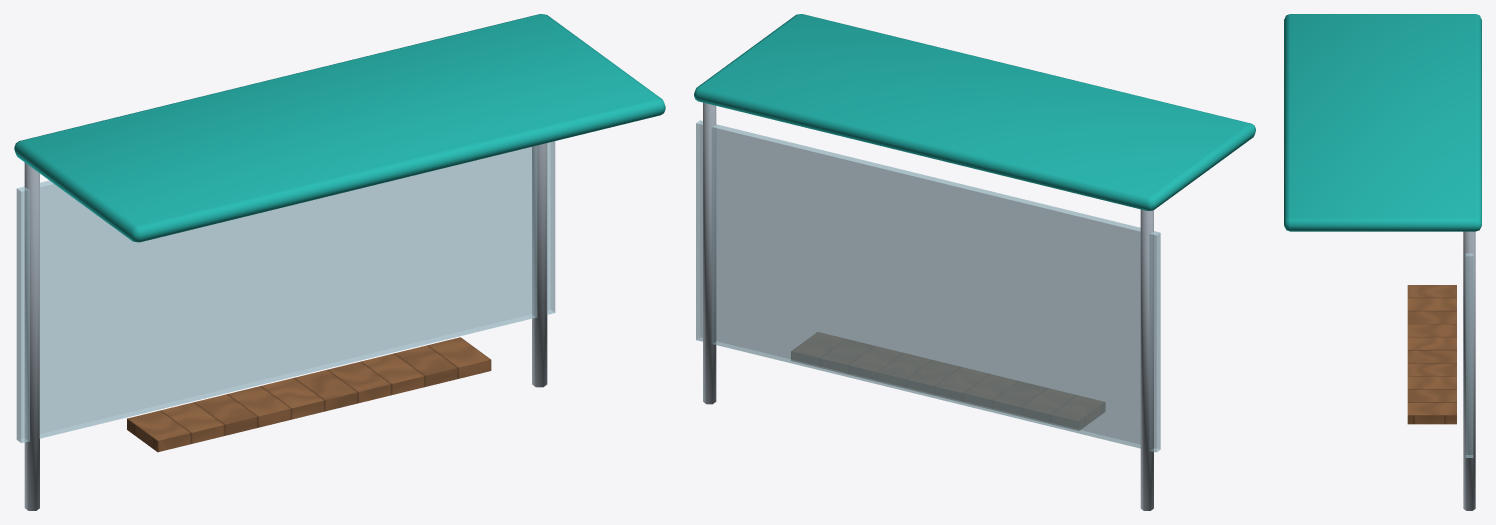
Rendered from tram_stop.gltf.
3 views of the same model, side by side, from view 1: azimuth 30°, elevation 25°; view 2: azimuth 150°, elevation 25°; view 3: azimuth 270°, elevation 25° (orthographic). The views are drawn at different scales.
Parts seen in each view (by area): view 1: tram_stop_mesh; view 2: tram_stop_mesh; view 3: tram_stop_mesh.
Part boxes in pixels (x1,y1,x2,y2): tram_stop_mesh: (14,14,665,510); tram_stop_mesh: (694,14,1255,510); tram_stop_mesh: (1284,14,1481,510).
Size of what is drawn, in the model's own units: 4 by 2.62 by 1.6.
4 materials, 1 textured.
